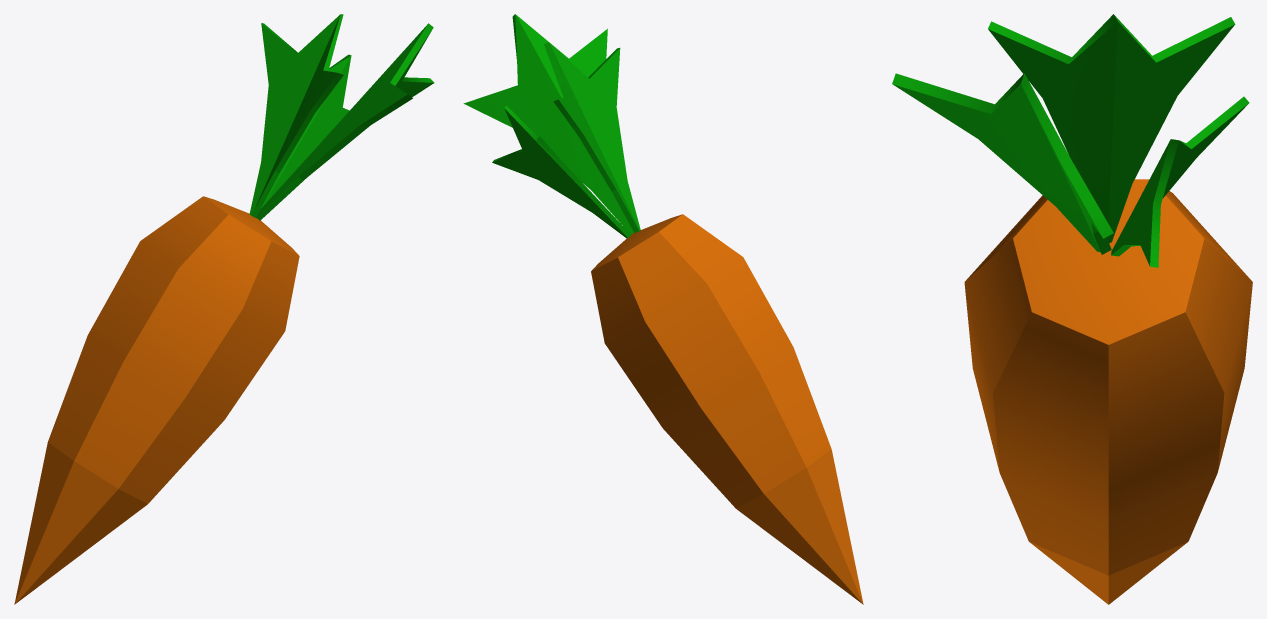
Rendered from Carrot.glb.
The picture shows the model from 3 angles, left to right: view 1: azimuth 30°, elevation 25°; view 2: azimuth 150°, elevation 25°; view 3: azimuth 270°, elevation 25°; orthographic projection. The views are drawn at different scales.
Visible parts, largest first — view 1: Carrot1; view 2: Carrot1; view 3: Carrot1.
Boxes of the visible parts, x1,y1,x2,y2 form: Carrot1: (14,14,434,604); Carrot1: (463,14,863,604); Carrot1: (892,14,1252,604).
Bounding box in the file's own units: 4.91 × 5.71 × 2.17.
